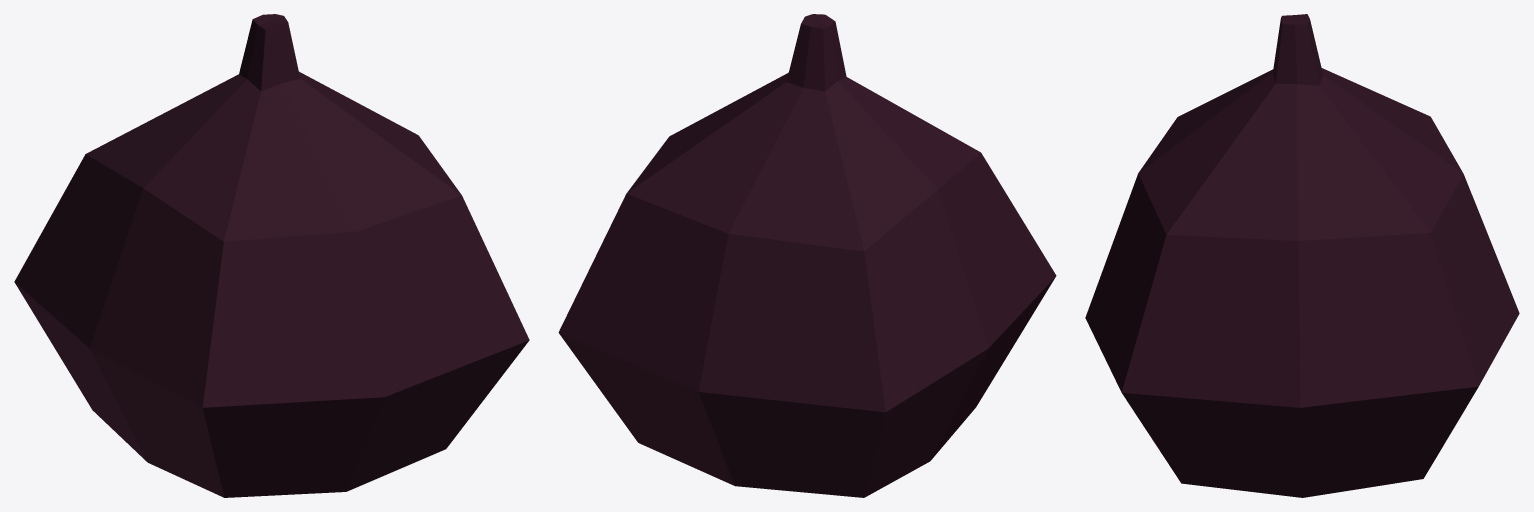
File: fig.fbx
3 renders of one model, left to right at view 1: azimuth 30°, elevation 25°; view 2: azimuth 150°, elevation 25°; view 3: azimuth 270°, elevation 25°, orthographic.
Parts seen in each view (by area): view 1: fig; view 2: fig; view 3: fig.
Part boxes in pixels (box(x1,y1,x2,y2)): fig: box(14, 14, 529, 497); fig: box(558, 14, 1056, 497); fig: box(1085, 14, 1519, 497).
Size of the model in its own units: 6.33 by 7.15 by 6.4.
1 material, 1 textured.
